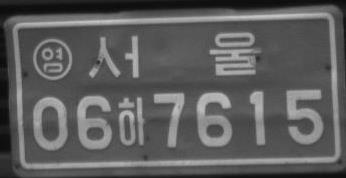0: (31, 95, 67, 151)
1: (243, 89, 274, 146)
5: (284, 88, 324, 146)
6: (194, 91, 233, 148), (76, 94, 112, 150)
7: (152, 91, 186, 148)
서울_D: (87, 30, 261, 78)
영: (32, 37, 73, 81)
하: (117, 95, 148, 148)
